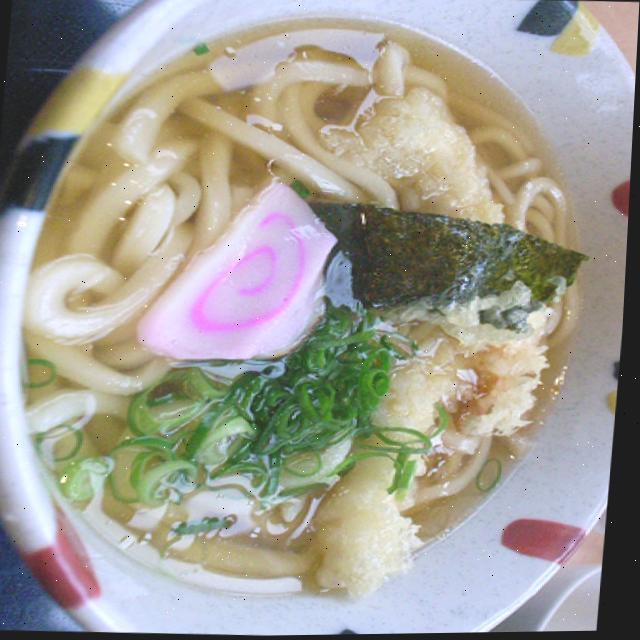面条主食: (12, 1, 638, 614)
